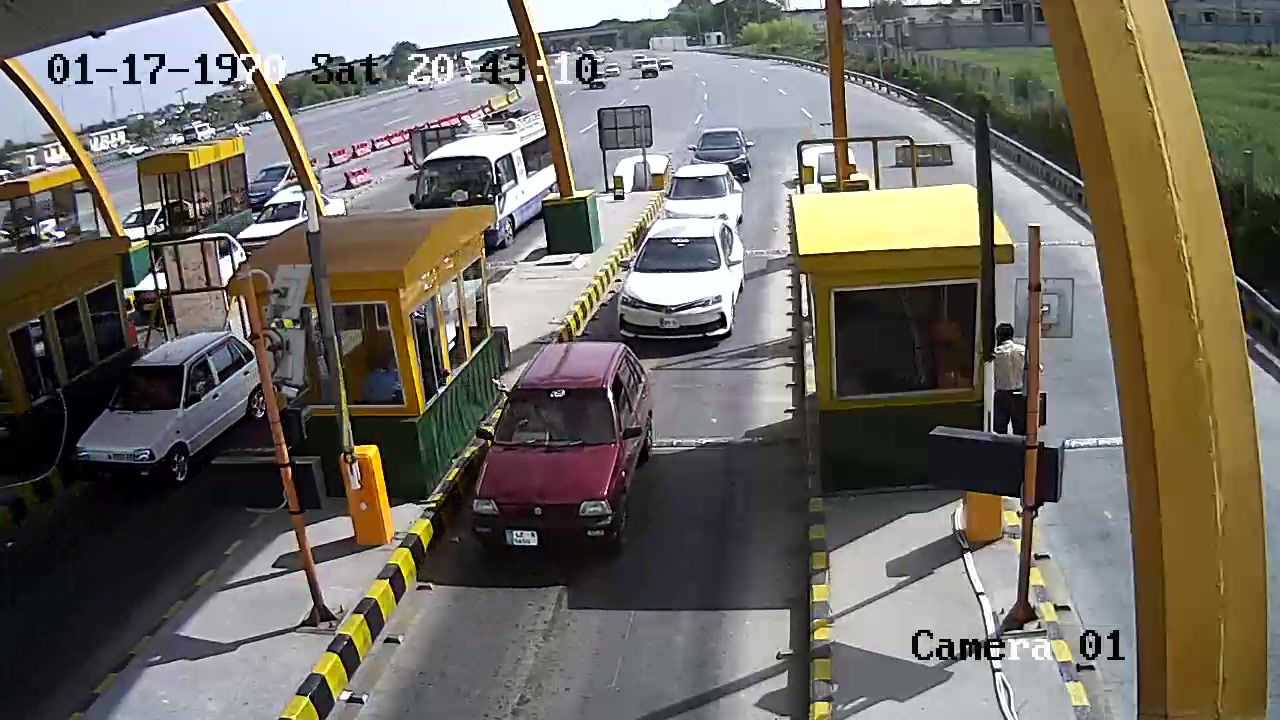F1: (472, 336, 667, 586), (604, 212, 750, 350)
